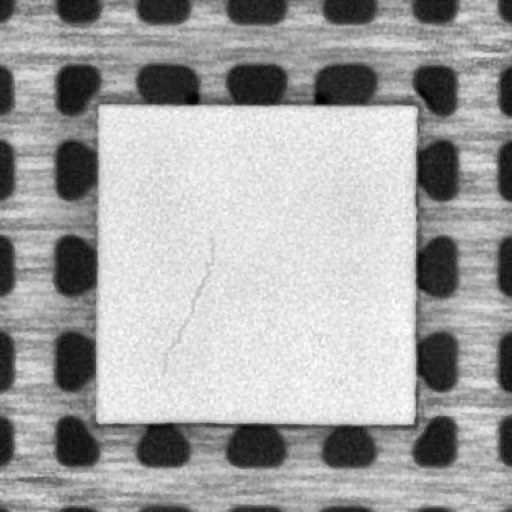DIE_CRACK: (160, 228, 221, 366)
